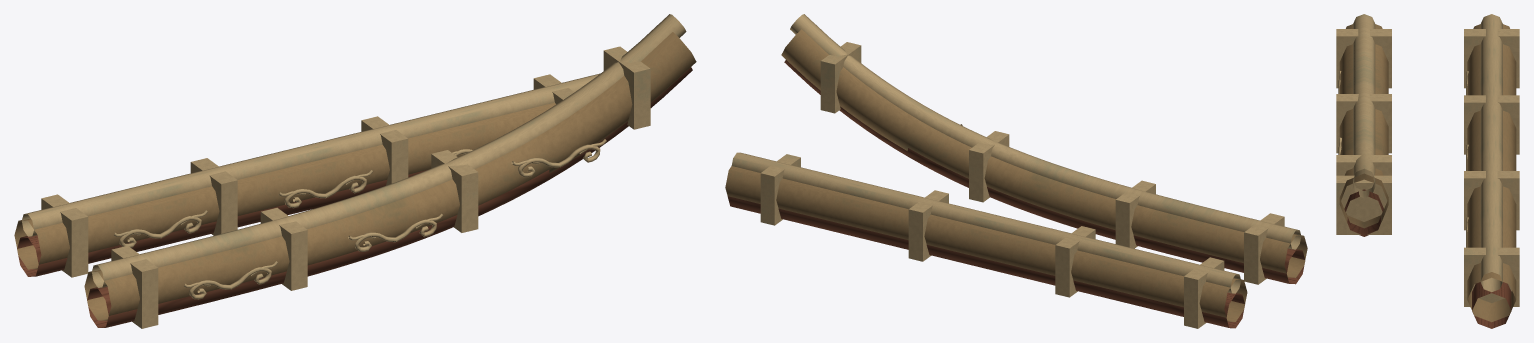
3 views of the same model, side by side, from view 1: azimuth 30°, elevation 25°; view 2: azimuth 150°, elevation 25°; view 3: azimuth 270°, elevation 25° (orthographic). The views are drawn at different scales.
Visible parts, largest first — view 1: RisingHip_gold, RisingHip_bronze, StraightRidge_gold, StraightRidge_bronze, RisingHip_heartwood, StraightRidge_heartwood; view 2: RisingHip_bronze, StraightRidge_bronze, RisingHip_gold, StraightRidge_gold, StraightRidge_heartwood, RisingHip_heartwood; view 3: StraightRidge_gold, RisingHip_gold, StraightRidge_bronze, RisingHip_bronze, StraightRidge_heartwood, RisingHip_heartwood.
Part boxes in pixels (x1=…): RisingHip_gold: x1=92, y1=14, x2=686, y2=328; RisingHip_bronze: x1=84, y1=25, x2=696, y2=320; StraightRidge_gold: x1=21, y1=73, x2=600, y2=277; StraightRidge_bronze: x1=14, y1=102, x2=555, y2=269; RisingHip_heartwood: x1=87, y1=67, x2=692, y2=327; StraightRidge_heartwood: x1=17, y1=170, x2=427, y2=276; RisingHip_bronze: x1=781, y1=25, x2=1307, y2=277; StraightRidge_bronze: x1=725, y1=166, x2=1247, y2=321; RisingHip_gold: x1=790, y1=14, x2=1301, y2=284; StraightRidge_gold: x1=731, y1=152, x2=1240, y2=328; StraightRidge_heartwood: x1=727, y1=196, x2=1244, y2=328; RisingHip_heartwood: x1=784, y1=60, x2=1304, y2=284; StraightRidge_gold: x1=1464, y1=14, x2=1519, y2=306; RisingHip_gold: x1=1336, y1=14, x2=1391, y2=234; StraightRidge_bronze: x1=1467, y1=24, x2=1516, y2=322; RisingHip_bronze: x1=1339, y1=24, x2=1388, y2=228; StraightRidge_heartwood: x1=1472, y1=282, x2=1511, y2=328; RisingHip_heartwood: x1=1344, y1=189, x2=1383, y2=236.
Size of the model in its own units: 3.37 by 0.9413 by 0.99.
Materials: 3 (3 with a texture image).
